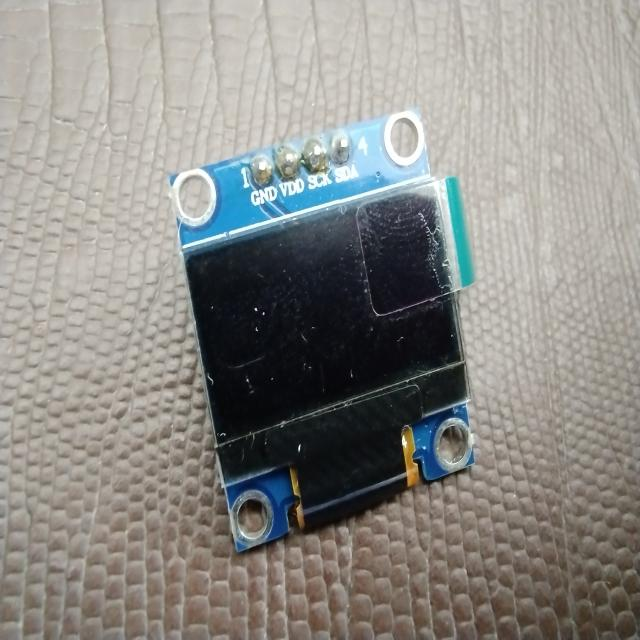oled: (163, 103, 491, 563)
